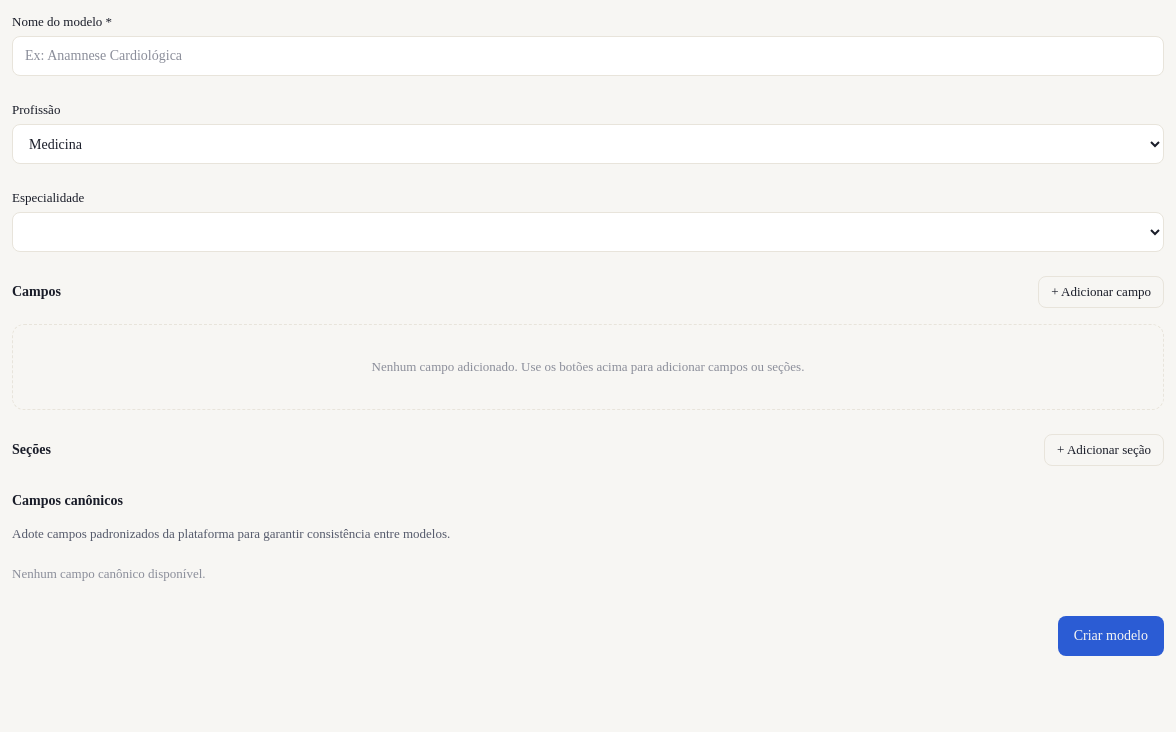
Test: TemplateForm (integration) › create mode › removes field editor when remove clicked
Click the button with test id "template-form-add-field": (1101, 292) x1=1038 y1=276 x2=1164 y2=308
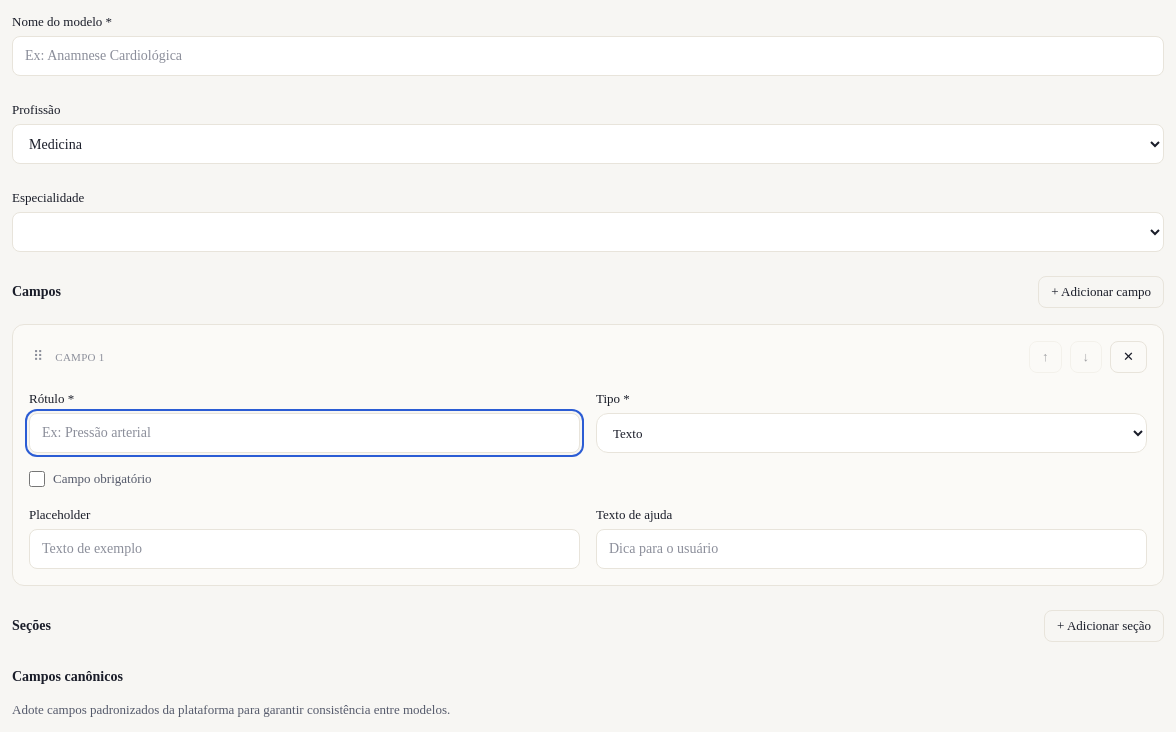
Now the element with test id "field-editor-0" is shown, box x1=12 y1=324 x2=1164 y2=586
Click the button with test id "field-editor-remove-0": (1129, 357) x1=1110 y1=341 x2=1147 y2=373
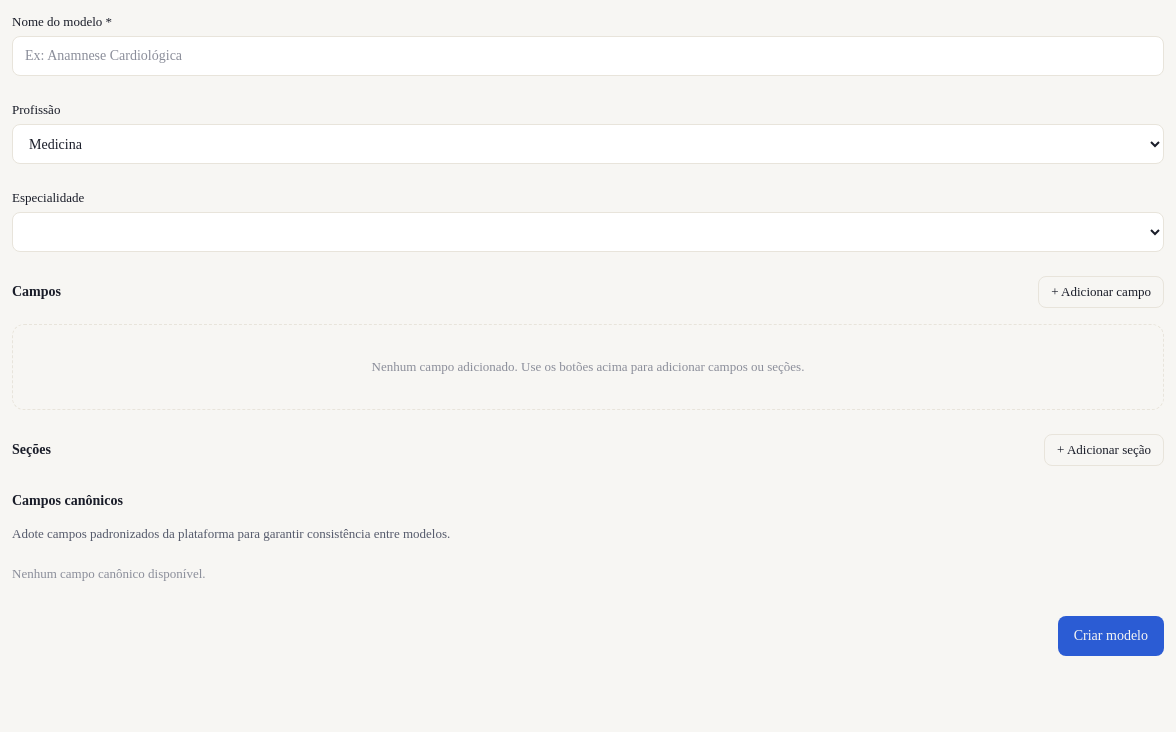
Now the element with test id "field-editor-0" is gone
